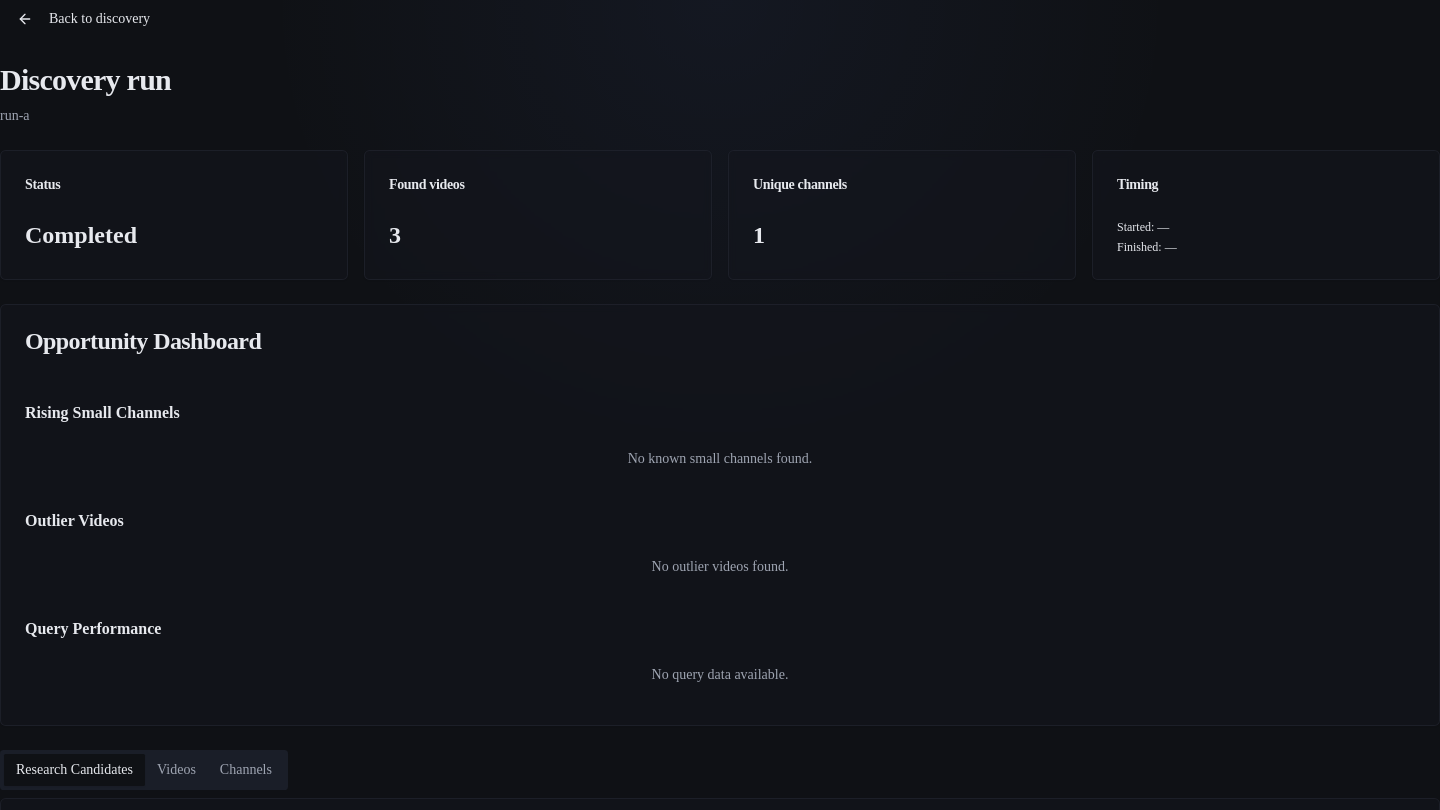
Test: Discovery page bulk selection › selects and clears only the visible page, with duplicate IDs counted once
Click the tab "Videos".
click(176, 770)  # box 145,754 -> 208,786
(page scrolled)
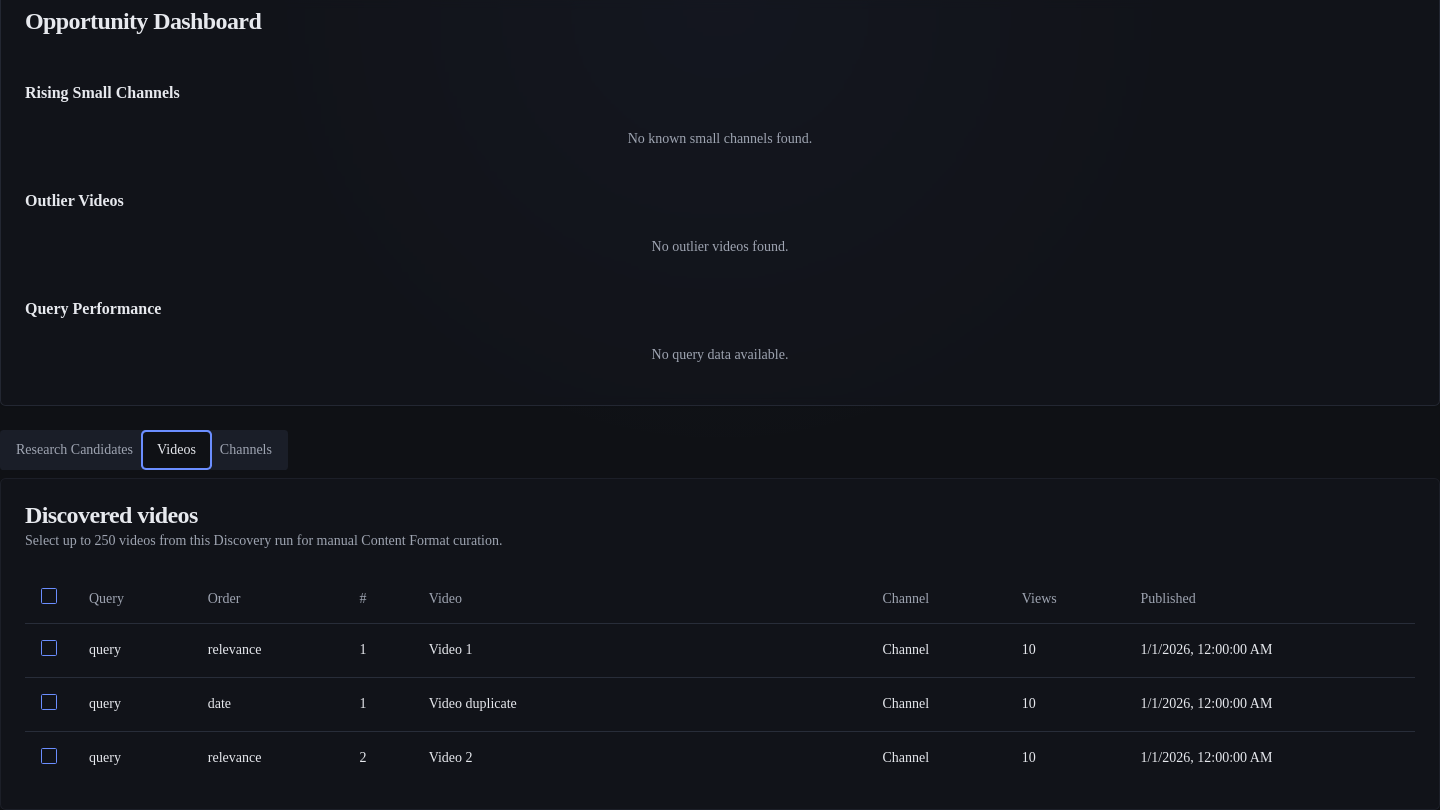
Click the checkbox named "Select all videos on this page".
click(49, 596)  # box 41,588 -> 57,604
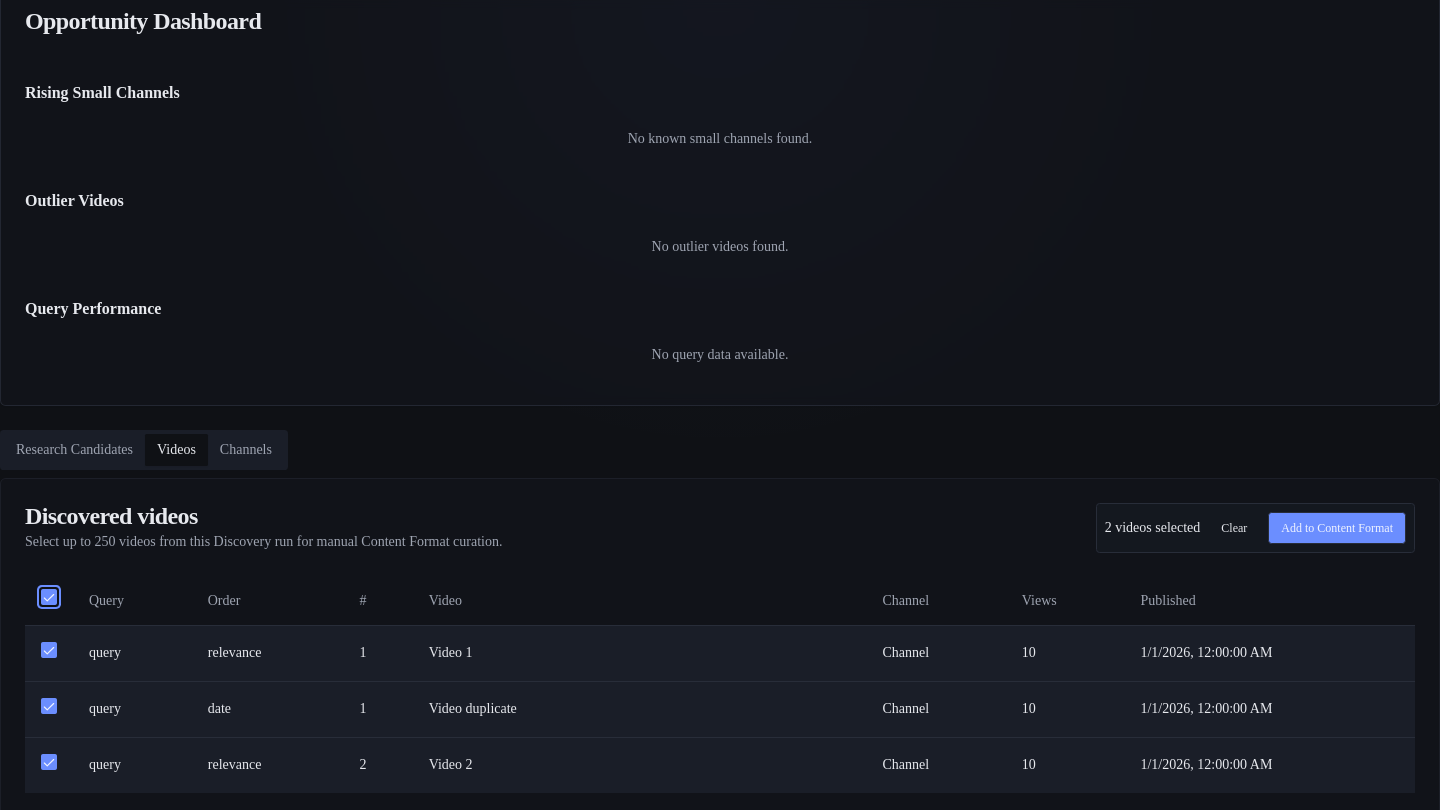
Result: the text "2 videos selected" is shown at 1105,518 -> 1200,538
Click the checkbox named "Select all videos on this page".
click(49, 597)  # box 41,589 -> 57,605
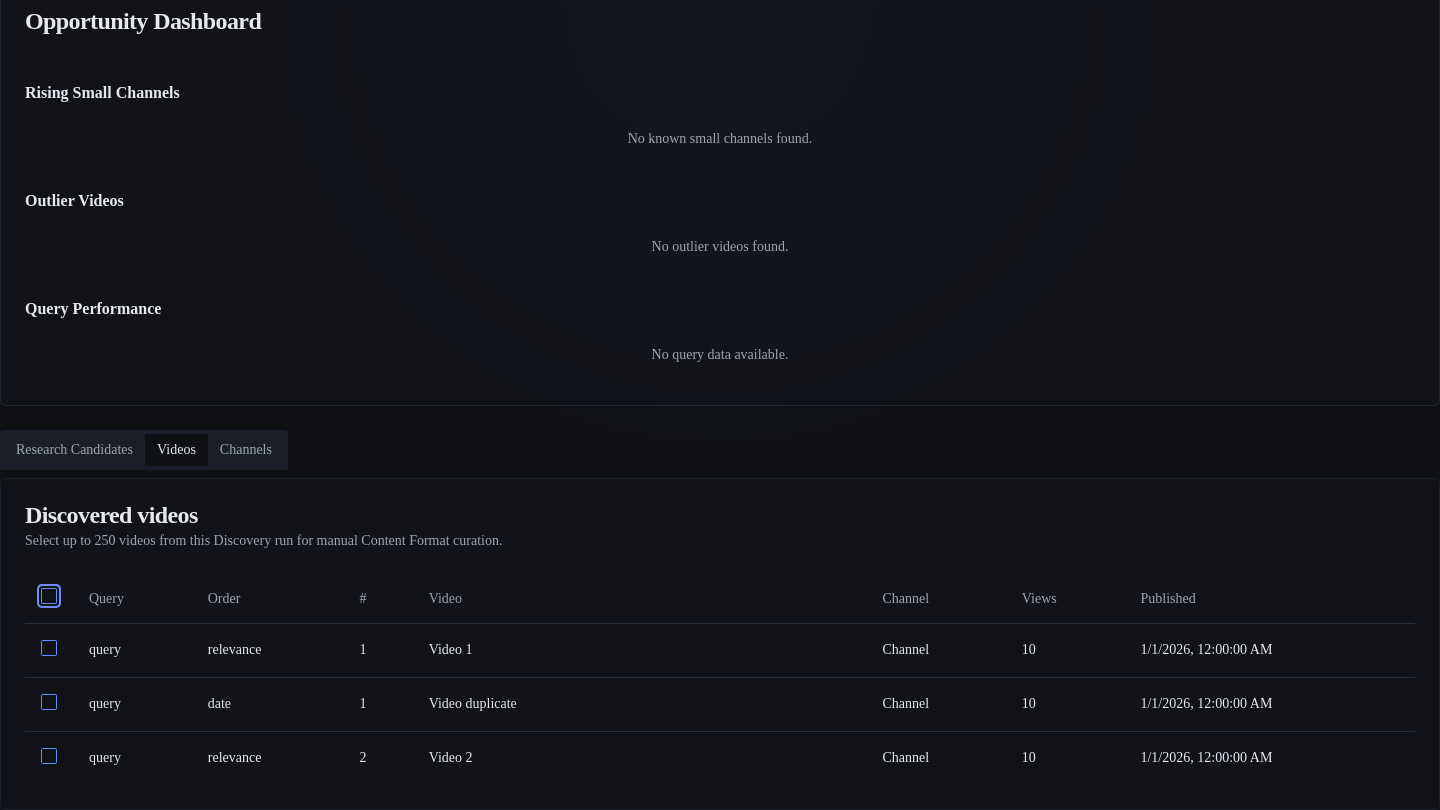
Result: the text "videos selected" is gone
